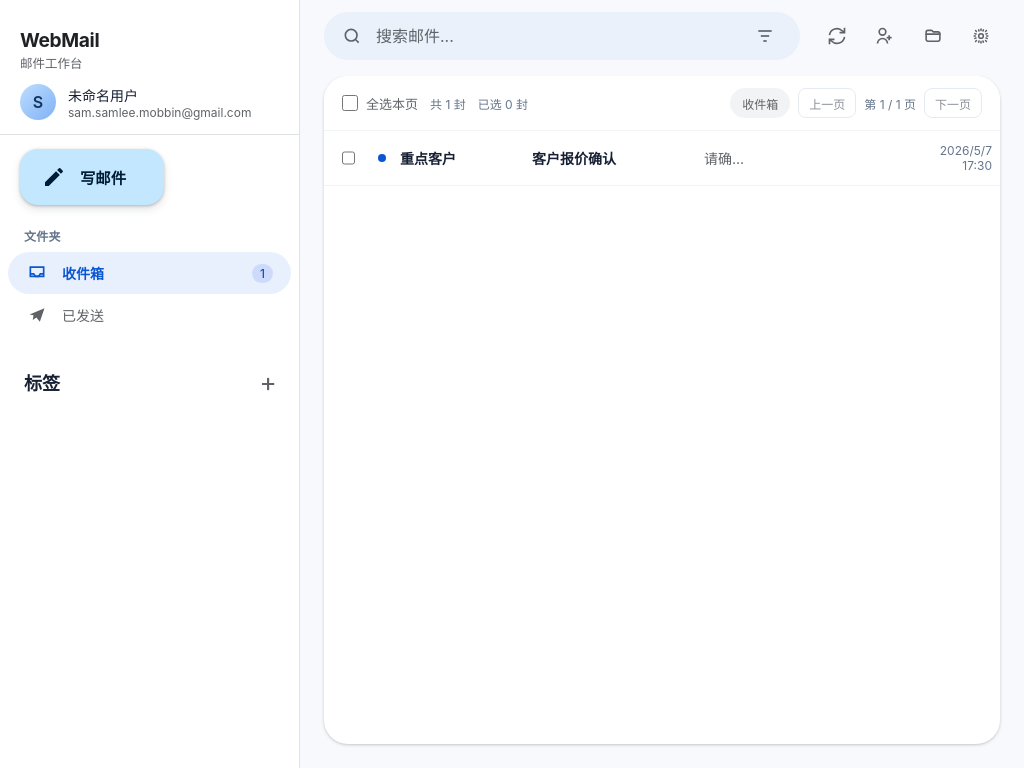
App 邮件工作台 › 搜索邮件后展示空结果
Expected: the text "客户报价确认" is shown, 532,150 -> 616,167
Step 1. Type "release" into the search field with placeholder "搜索邮件..." → [560, 36], box 376,26 -> 744,46
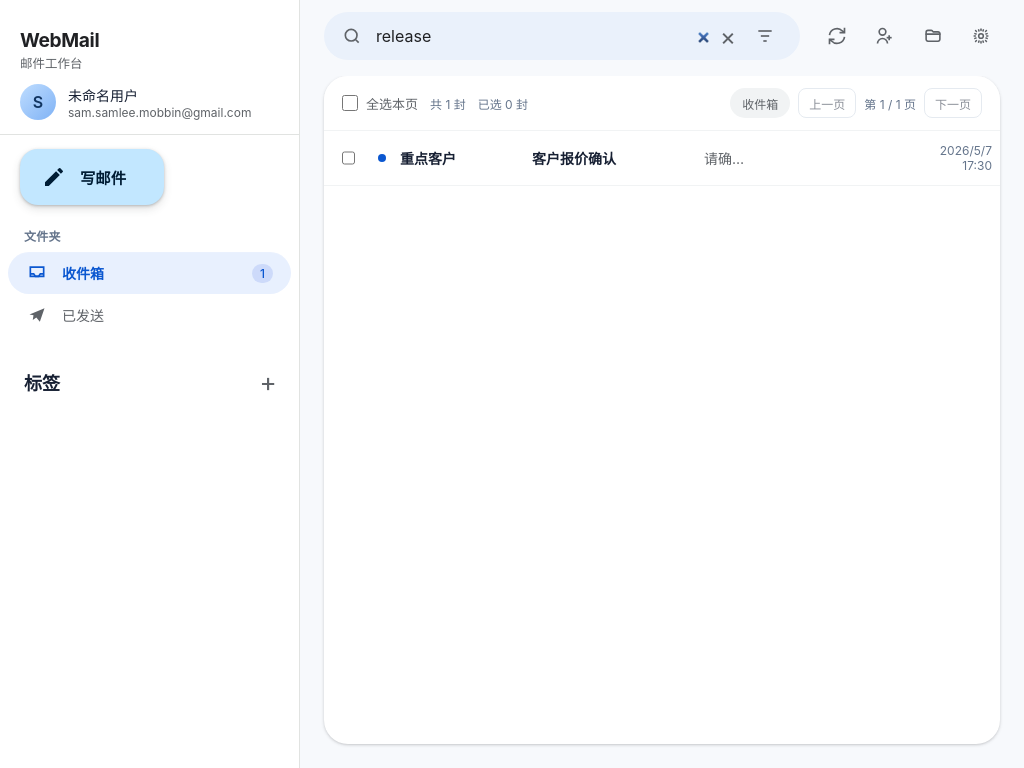
Step 2. Press Enter
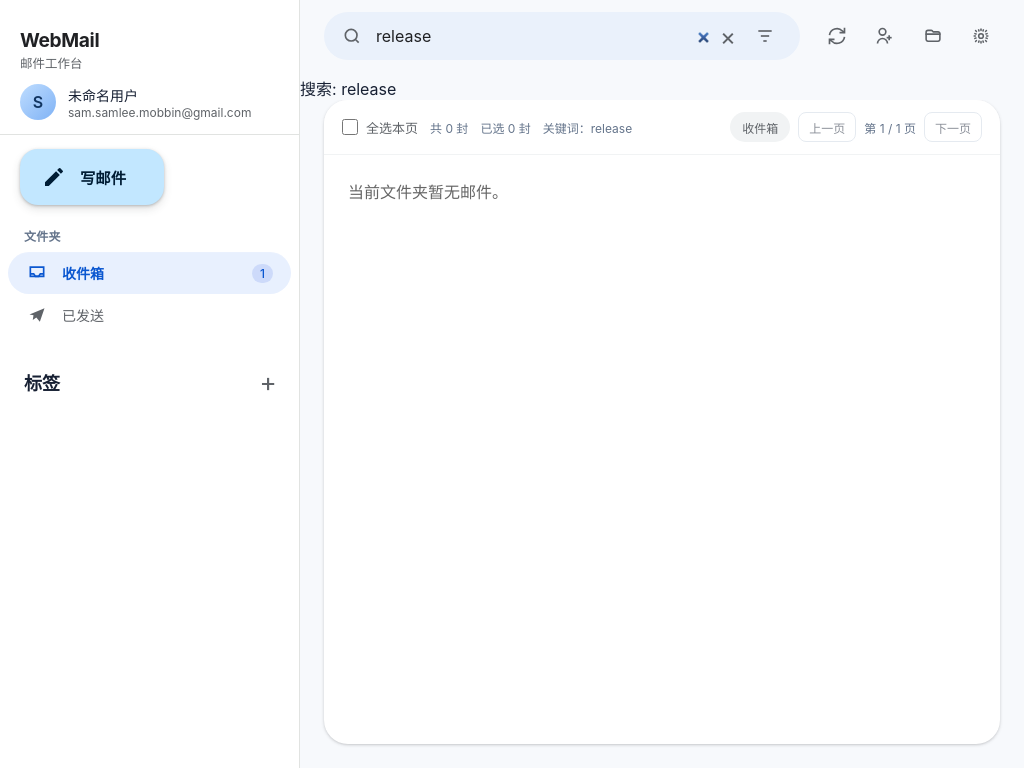
Result: the text "当前文件夹暂无邮件。" is shown at 348,182 -> 508,202
